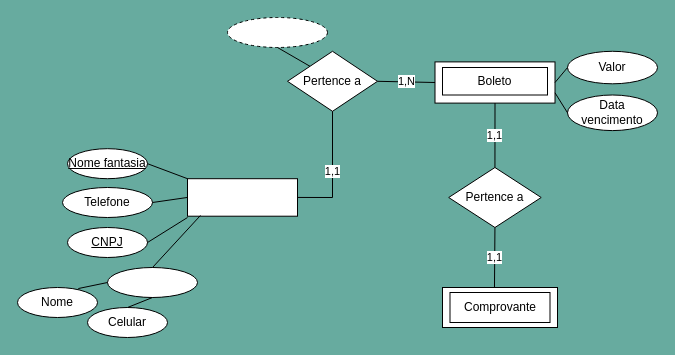
Image size: 675x355. Some labels were removed from this diagram. Here are the shapes that lost their labels. From the top down, the centre of each, then its label:
pixel 277 32: Data de inclusão
pixel 242 197: Empresa
pixel 152 282: Representante
